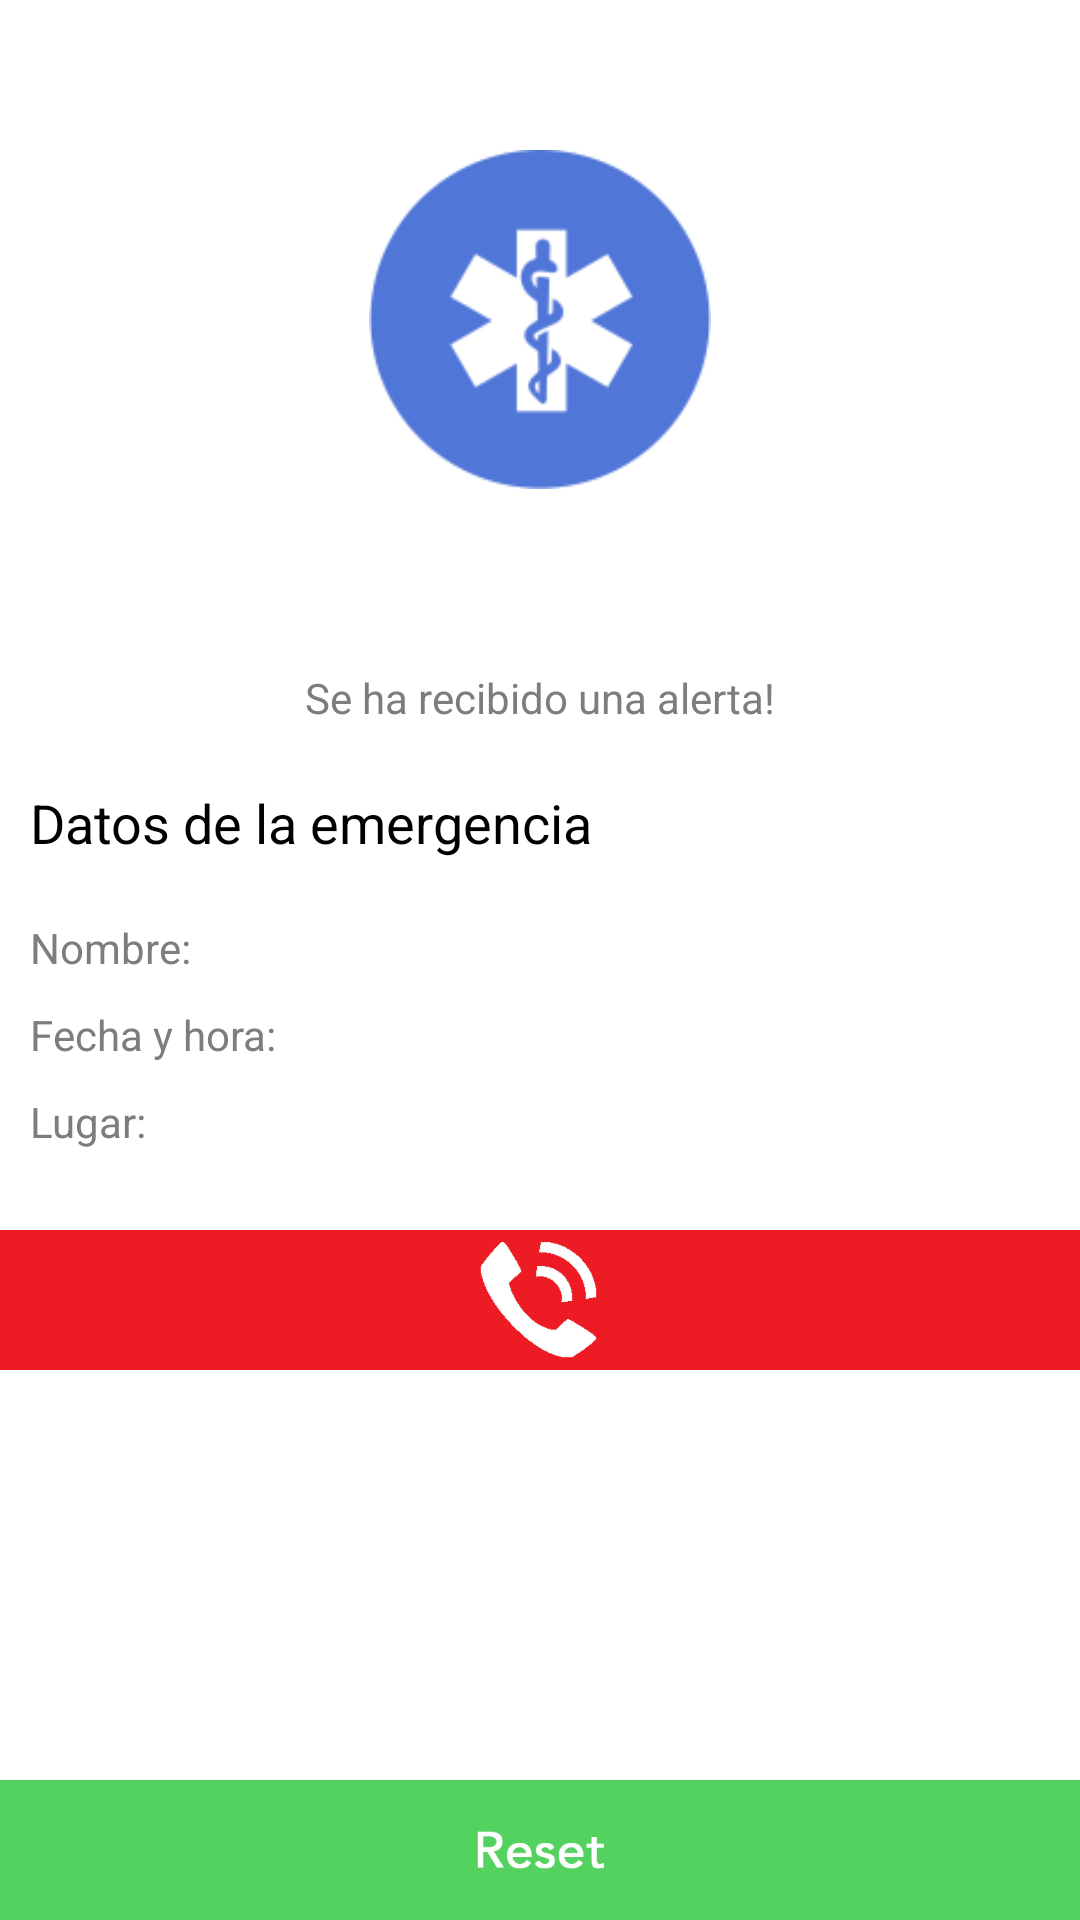

Named icons in this screenshot (1080 × 1920) and their centers, (x,y):
bracelet emergency: (540,319)
